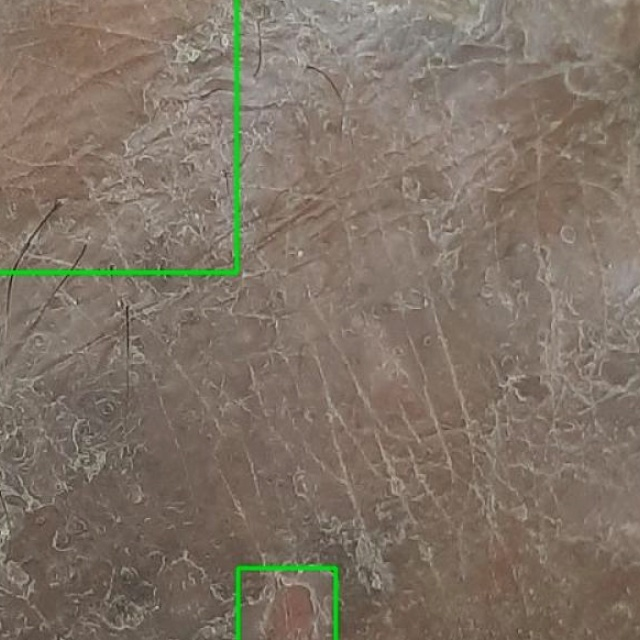Eczema: (0, 0, 236, 273), (238, 568, 336, 639)
